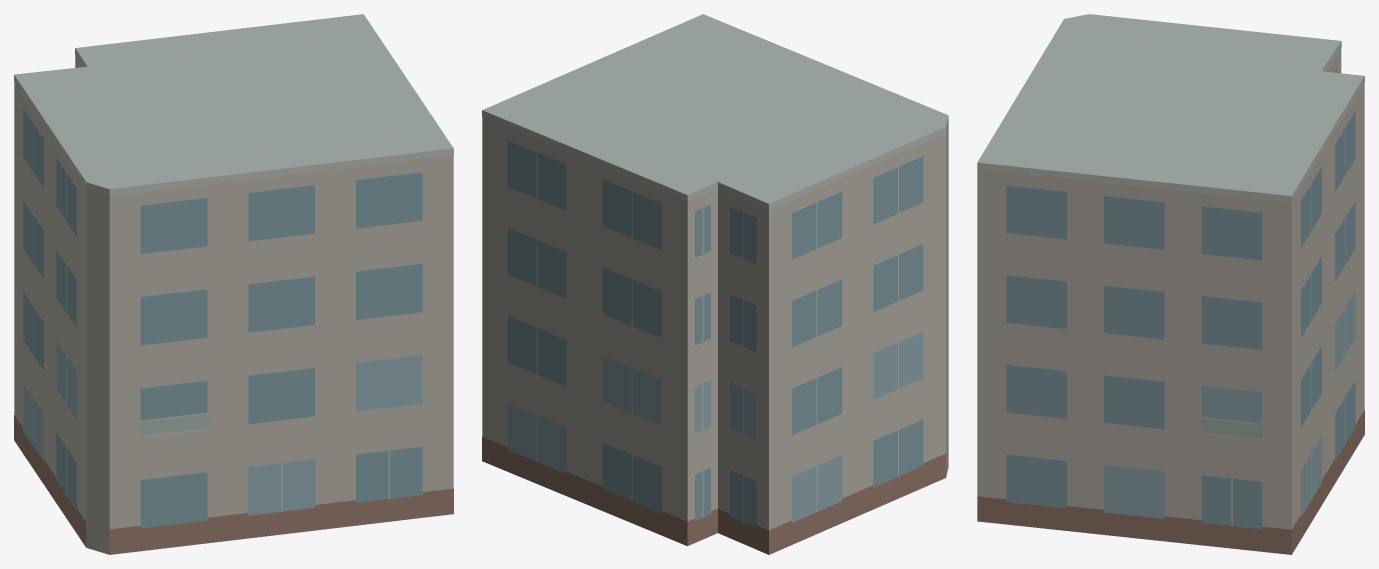
Rendered from survey-upis-32721679.glb.
The picture shows the model from 3 angles, left to right: view 1: azimuth 30°, elevation 25°; view 2: azimuth 150°, elevation 25°; view 3: azimuth 270°, elevation 25°; orthographic projection. The views are drawn at different scales.
Parts seen in each view (by area): view 1: survey-upis-32721679.tmp; view 2: survey-upis-32721679.tmp; view 3: survey-upis-32721679.tmp.
Boxes of the visible parts, box(x1,y1,x2,y2) form: survey-upis-32721679.tmp: box(14, 14, 453, 554); survey-upis-32721679.tmp: box(482, 14, 948, 554); survey-upis-32721679.tmp: box(977, 14, 1364, 554).
Bounding box in the file's own units: 13.83 × 12.7 × 12.44.
